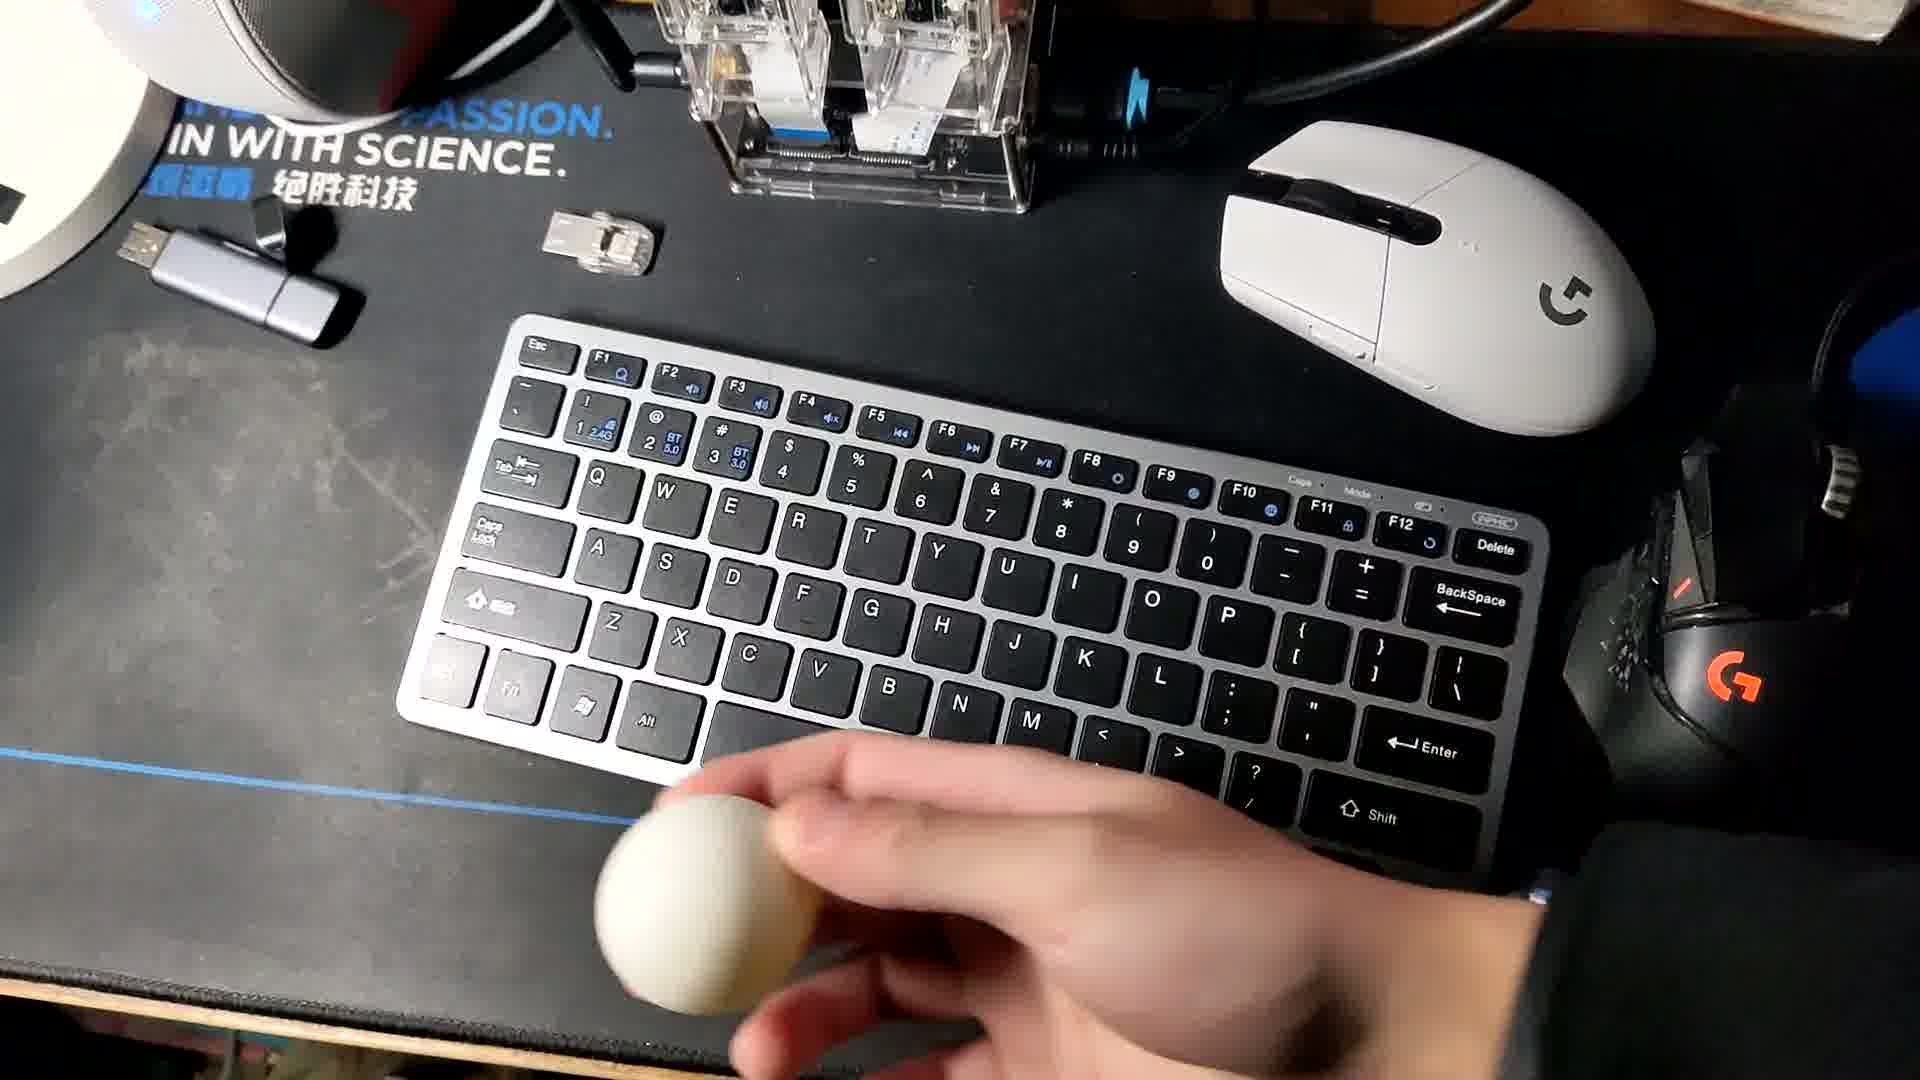Ball: (591, 796, 832, 1011)
